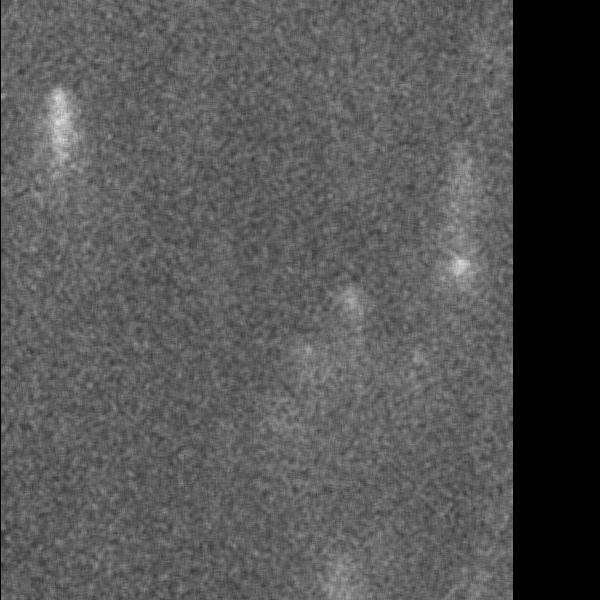spark: (30, 70, 84, 250), (330, 278, 360, 334), (447, 254, 479, 286)
